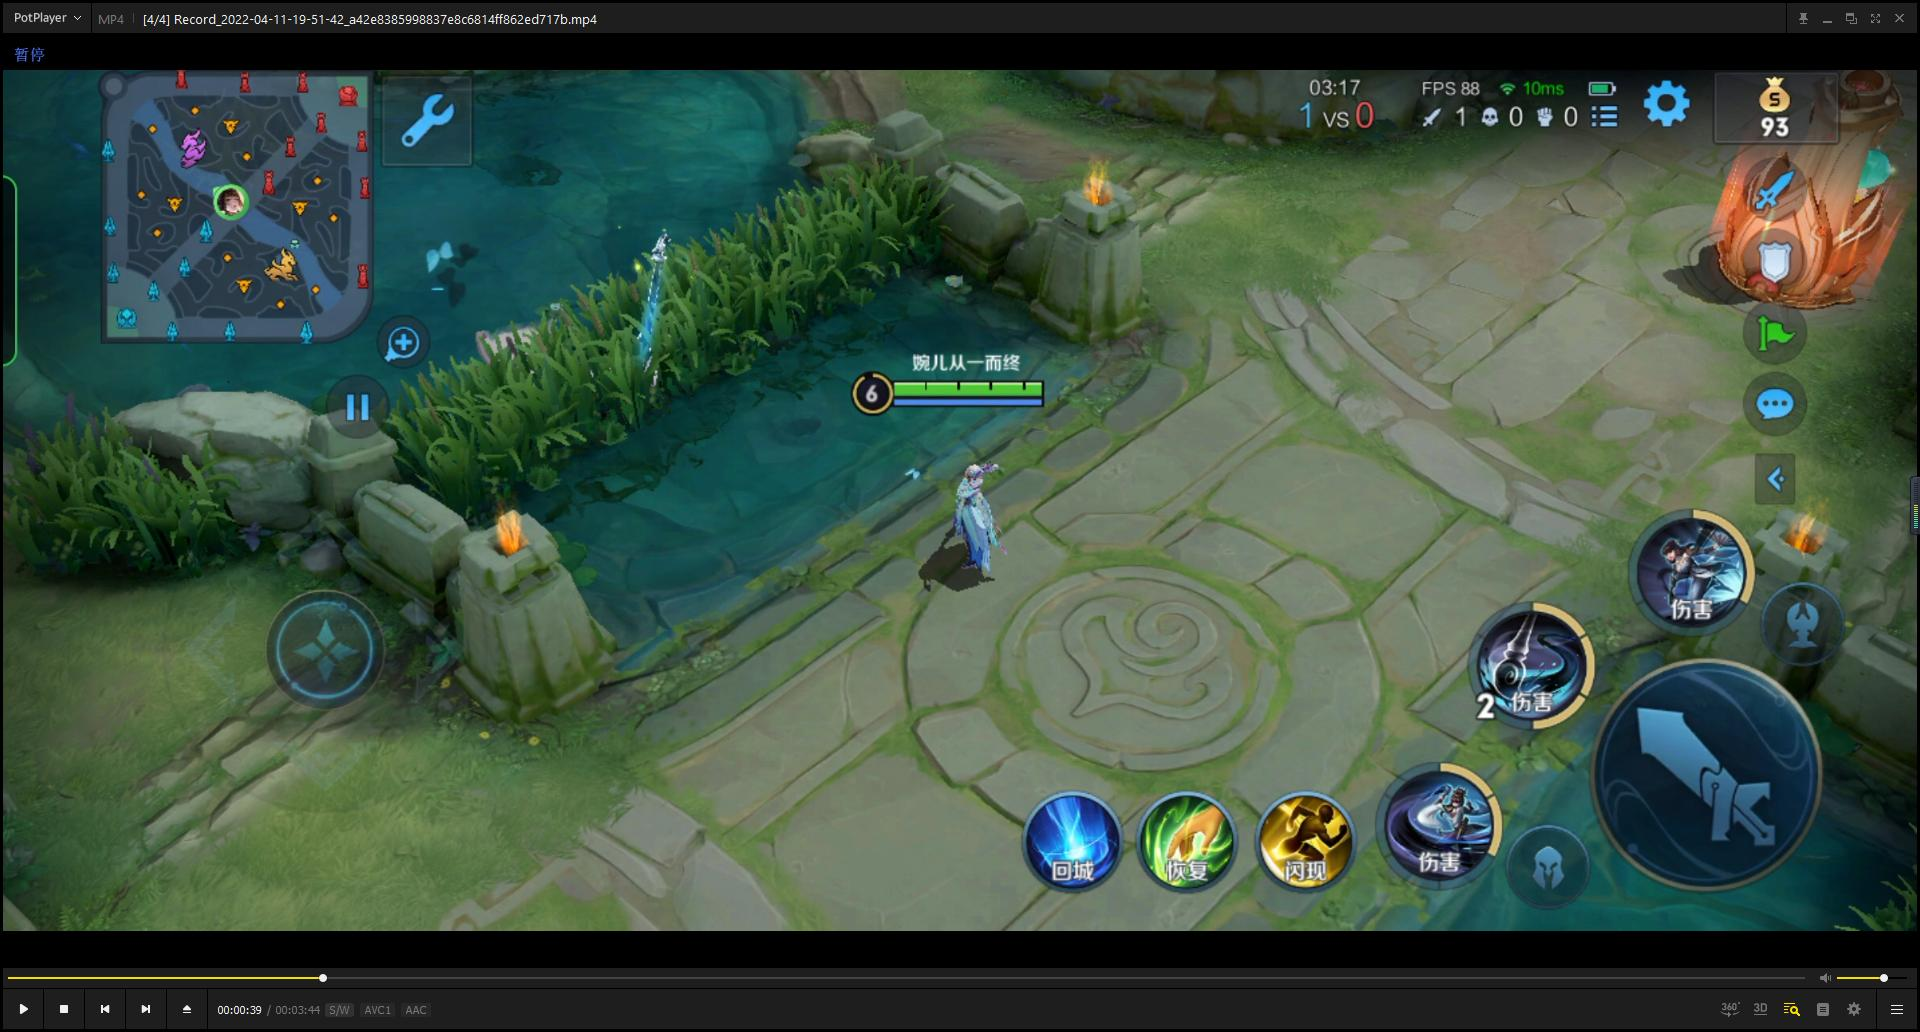Hero: (923, 458, 1009, 587)
Tower: (1700, 64, 1917, 311)
